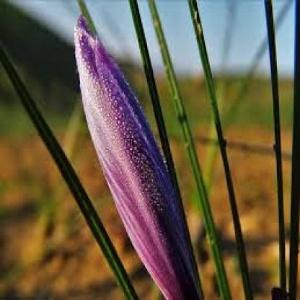Saffron: (71, 10, 211, 300)
